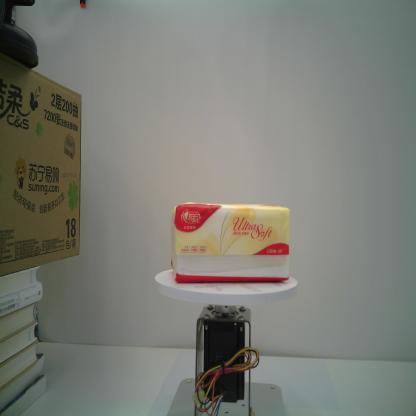Tissue: (169, 200, 291, 284)
